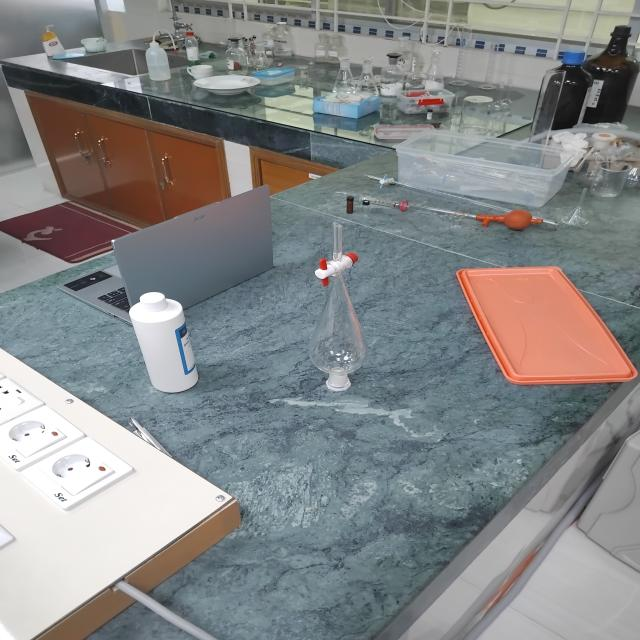Separating_Funnel: (274, 175, 411, 429)
